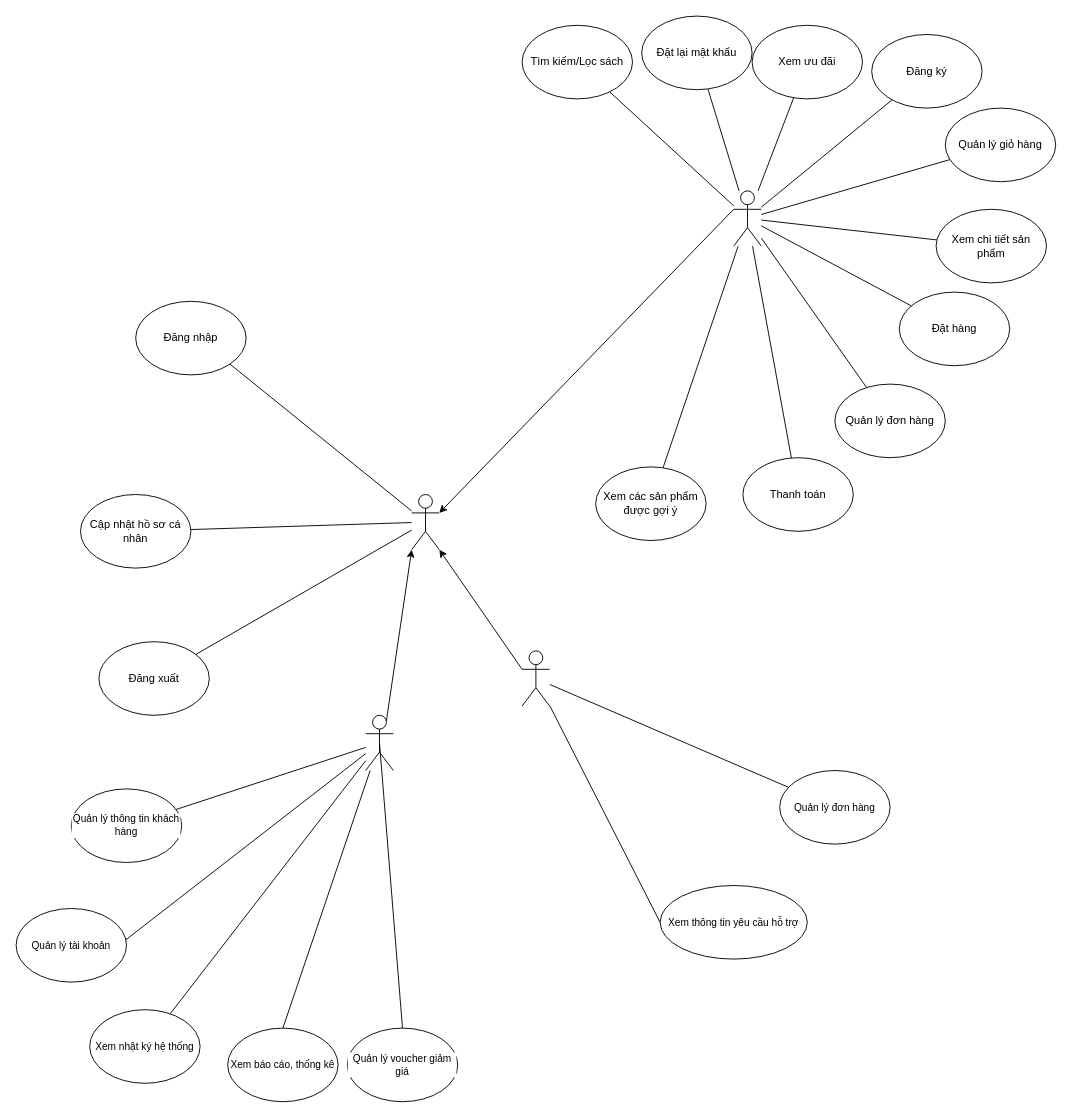
Image size: 1072x1118. Some labels were removed from this diagram. Here are the shapes that lost their labels. From the top down, the centre of each, then its label:
At (x=747, y=218): "Customer".
At (x=425, y=522): "User".
At (x=535, y=678): "Staff".
At (x=379, y=742): "Admin".
